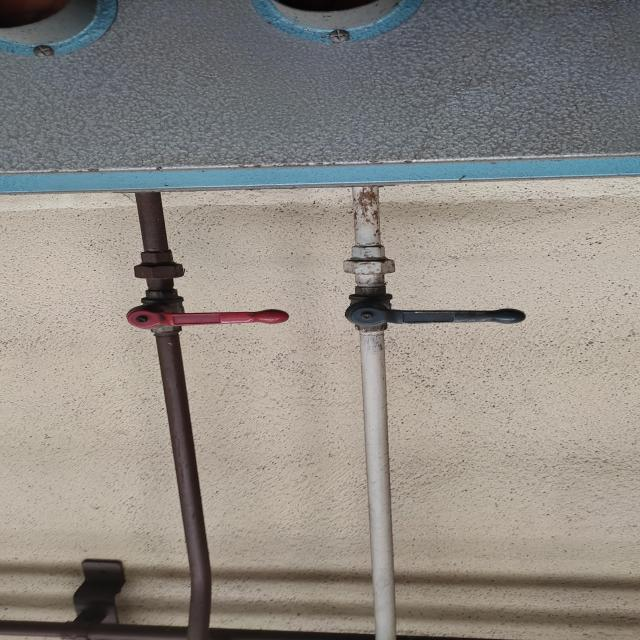closed_valve: (343, 284, 526, 332), (126, 288, 290, 334)
